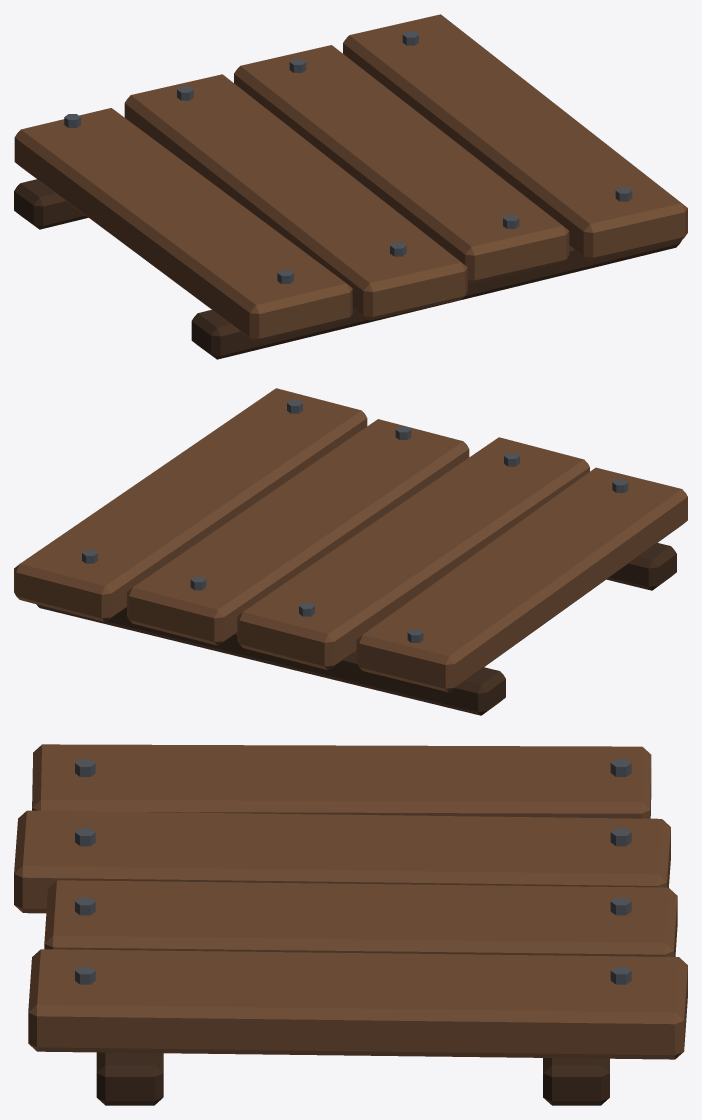
Rendered from plank.glb.
3 views of the same model, one above another, from view 1: azimuth 30°, elevation 25°; view 2: azimuth 150°, elevation 25°; view 3: azimuth 270°, elevation 25° (orthographic). The views are drawn at different scales.
Visible parts, largest first — view 1: Plank; view 2: Plank; view 3: Plank.
Boxes of the visible parts, x1,y1,x2,y2 form: Plank: [14, 14, 687, 359]; Plank: [14, 388, 687, 715]; Plank: [14, 744, 687, 1105].
Size of the model in its own units: 0.92 by 0.145 by 0.9057.
